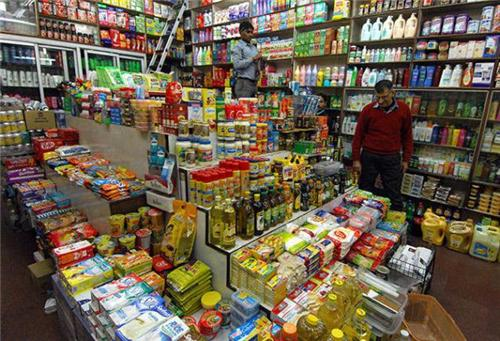Age_20_30: (238, 22, 258, 40)
Age_40_50: (373, 85, 395, 109)
E_Indian: (373, 85, 395, 109), (238, 22, 258, 40)
Emotion_Neutral: (373, 85, 395, 109), (238, 22, 258, 40)
G_Male: (373, 85, 395, 109), (238, 22, 258, 40)
